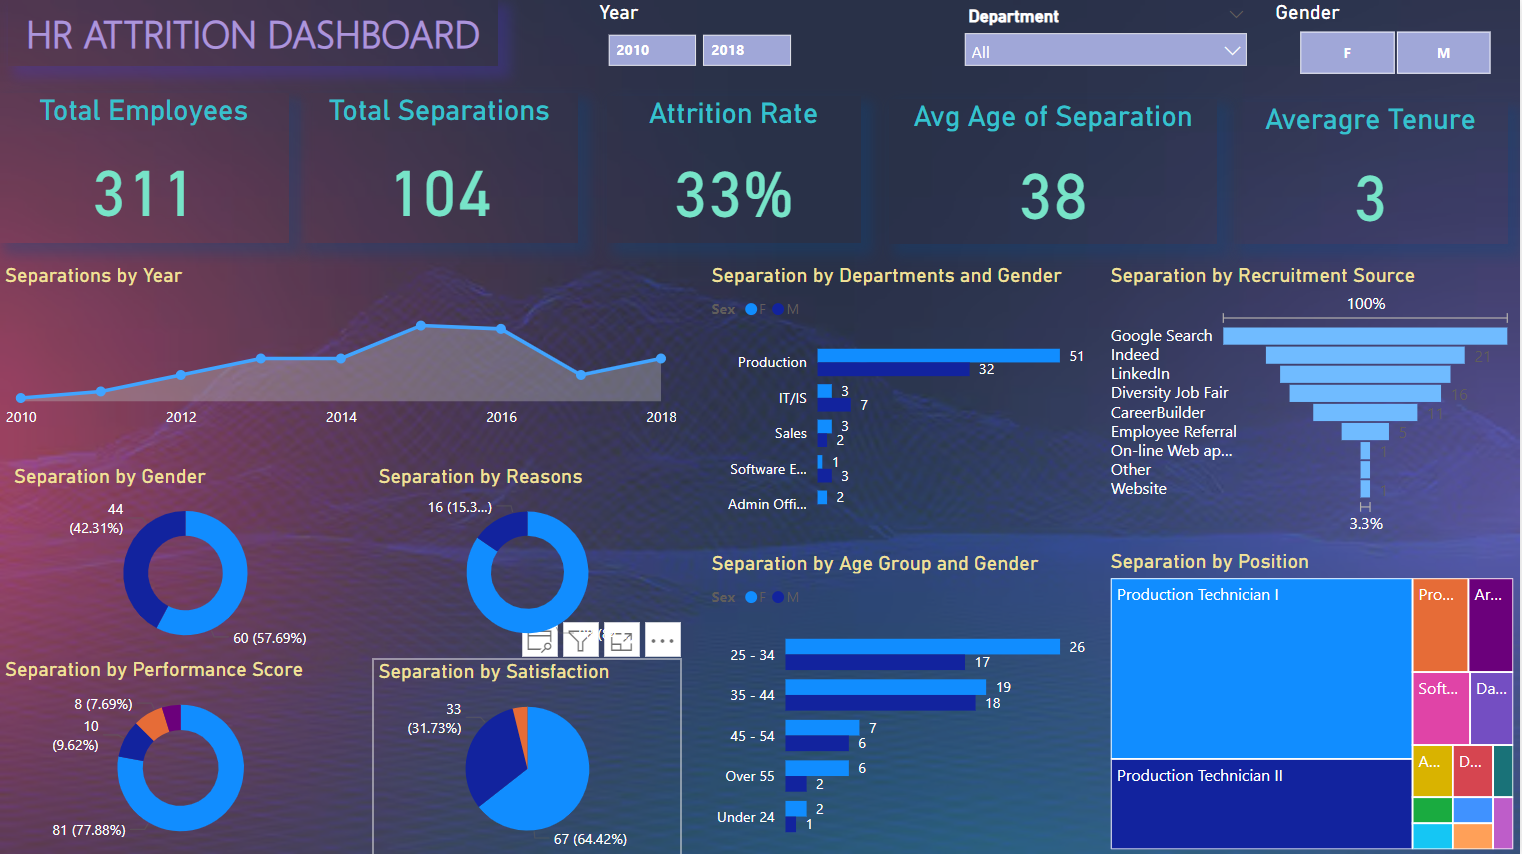

This screenshot's page, from the dashboard's own definition file:
{"tool":"powerbi","page":{"name":"Page 2","canvas":[1280,720],"ordinal":1},"visuals":[{"type":"textbox","box":[7.1,0,412.9,55.6],"z":0},{"type":"card","title":"Total Separations","fields":{"Values":["HRDataset.total_attrition"]},"box":[253.8,78.8,233.8,126.2],"z":1000},{"type":"card","title":"Total Employees","fields":{"Values":["HRDataset.total_employees"]},"box":[0,78.8,243.8,126.2],"z":2000},{"type":"card","title":"Attrition Rate","fields":{"Values":["HRDataset.attrition_rate"]},"box":[511.2,81.2,213.8,123.8],"z":3000},{"type":"card","title":"Avg Age of Separation","fields":{"Values":["HRDataset.avg_of_leaved_emps"]},"box":[749,82.9,276.9,122],"z":4000},{"type":"card","title":"Averagre Tenure","fields":{"Values":["HRDataset.avg_tenure"]},"box":[1039.3,85.4,230.5,119.5],"z":5000},{"type":"stackedAreaChart","title":"Separations by Year","fields":{"Category":["HRDataset.TermYear"],"Y":["HRDataset.total_attrition"]},"box":[0,221.2,574.9,147.9],"z":6000},{"type":"donutChart","title":"Separation by Gender","fields":{"Category":["HRDataset.Sex"],"Y":["HRDataset.total_attrition"]},"box":[7.1,390.4,298.1,164.4],"z":7000},{"type":"donutChart","title":"Separation by Performance Score","fields":{"Y":["HRDataset.total_attrition"],"Category":["HRDataset.PerformanceScore"]},"box":[0,553.6,305.2,166.8],"z":8000},{"type":"clusteredBarChart","title":"Separation by Age Group and Gender","fields":{"Category":["HRDataset.SeparationAgeGroup"],"Y":["HRDataset.total_attrition"],"Series":["HRDataset.Sex"]},"box":[595.2,463.8,325.2,256.4],"z":9000},{"type":"funnel","title":"Separation by Recruitment Source","fields":{"Y":["HRDataset.total_attrition"],"Category":["HRDataset.RecruitmentSource"]},"box":[931.2,221.2,348.8,232.5],"z":10000},{"type":"pieChart","title":"Separation by  Satisfaction","fields":{"Y":["HRDataset.total_attrition"],"Category":["HRDataset.NewEmpSatisfaction"]},"box":[314.7,554.8,260.3,165.6],"z":11000},{"type":"donutChart","title":"Separation by  Reasons","fields":{"Y":["HRDataset.total_attrition"],"Category":["HRDataset.NewTermReason"]},"box":[314.7,390.4,260.3,163.3],"z":12000},{"type":"clusteredBarChart","title":"Separation by Departments and Gender","fields":{"Category":["HRDataset.Department"],"Y":["HRDataset.total_attrition"],"Series":["HRDataset.Sex"]},"box":[595.2,221,325.2,232.4],"z":13000},{"type":"treemap","title":"Separation by Position","fields":{"Values":["HRDataset.total_attrition"],"Group":["HRDataset.Position"]},"box":[931.2,462.5,348.8,257.5],"z":14000},{"type":"slicer","fields":{"Values":["HRDataset.Department"]},"box":[802.5,0,257.5,78.8],"z":15000},{"type":"slicer","title":"Year","fields":{"Values":["HRDataset.TermYear"]},"box":[500.6,0,280.8,81.8],"z":16000},{"type":"slicer","title":"Gender","fields":{"Values":["HRDataset.Sex"]},"box":[1070,0,210,68.8],"z":17000}]}

Visuals, with their boxes in screenshot pixels (x1, y1, x2, y2), scaled from the page's 1280x720 canvas onto the 1522x854 screenshot:
textbox: 8, 0, 499, 66
"Total Separations" card: 302, 93, 580, 243
"Total Employees" card: 0, 93, 290, 243
"Attrition Rate" card: 608, 96, 862, 243
"Avg Age of Separation" card: 891, 98, 1220, 243
"Averagre Tenure" card: 1236, 101, 1510, 243
"Separations by Year" stackedAreaChart: 0, 262, 684, 438
"Separation by Gender" donutChart: 8, 463, 363, 658
"Separation by Performance Score" donutChart: 0, 657, 363, 853
"Separation by Age Group and Gender" clusteredBarChart: 708, 550, 1094, 853
"Separation by Recruitment Source" funnel: 1107, 262, 1521, 538
"Separation by  Satisfaction" pieChart: 374, 658, 684, 853
"Separation by  Reasons" donutChart: 374, 463, 684, 657
"Separation by Departments and Gender" clusteredBarChart: 708, 262, 1094, 538
"Separation by Position" treemap: 1107, 549, 1521, 853
slicer - HRDataset.Department: 954, 0, 1260, 93
"Year" slicer: 595, 0, 929, 97
"Gender" slicer: 1272, 0, 1521, 82
